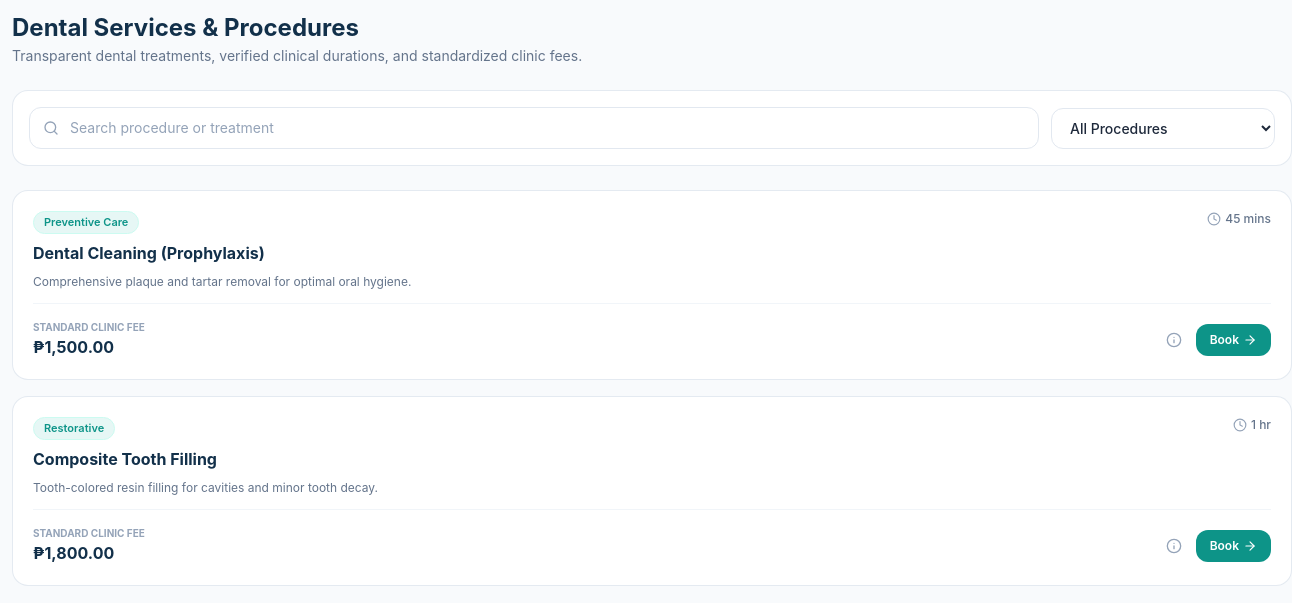
PatientServicesPage Component › filters services by category dropdown beside the search bar
The image size is (1292, 603).
Expected: the heading "Dental Cleaning (Prophylaxis)" is shown, [33,242,265,262]
Expected: the heading "Composite Tooth Filling" is shown, [33,448,217,468]
Select "Restorative" in the dropdown named "Filter by category" at (1163, 128), box [1051,108,1275,148]
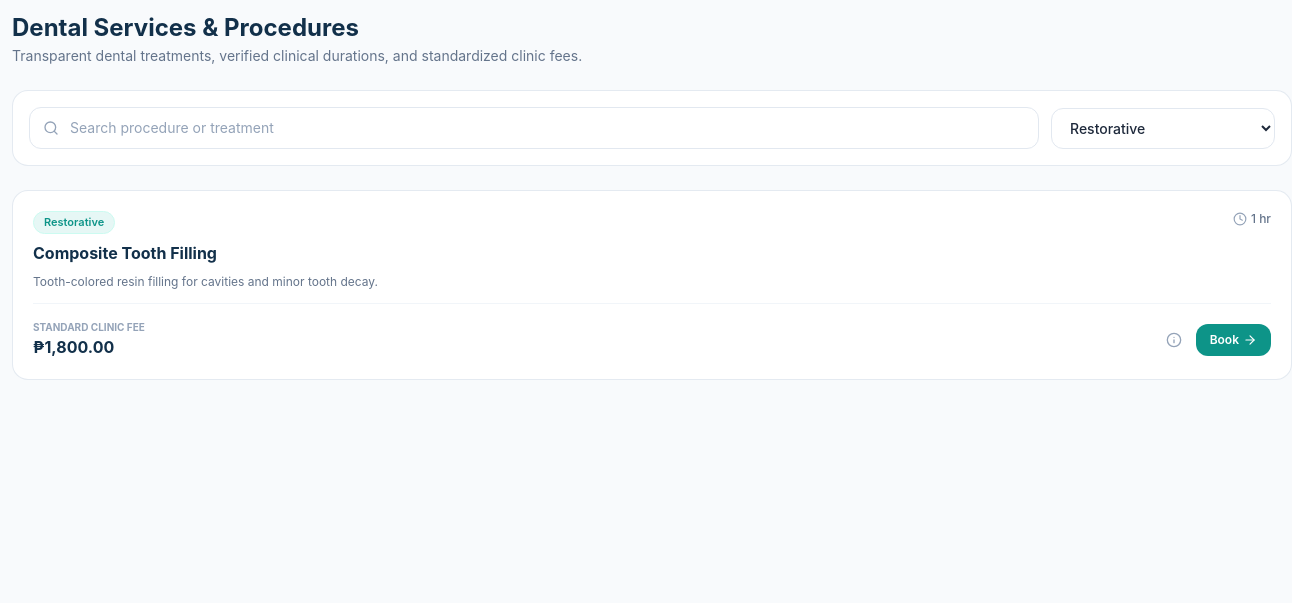
Expected: the heading "Composite Tooth Filling" is shown, [33,242,217,262]
Expected: the heading "Dental Cleaning (Prophylaxis)" is gone
